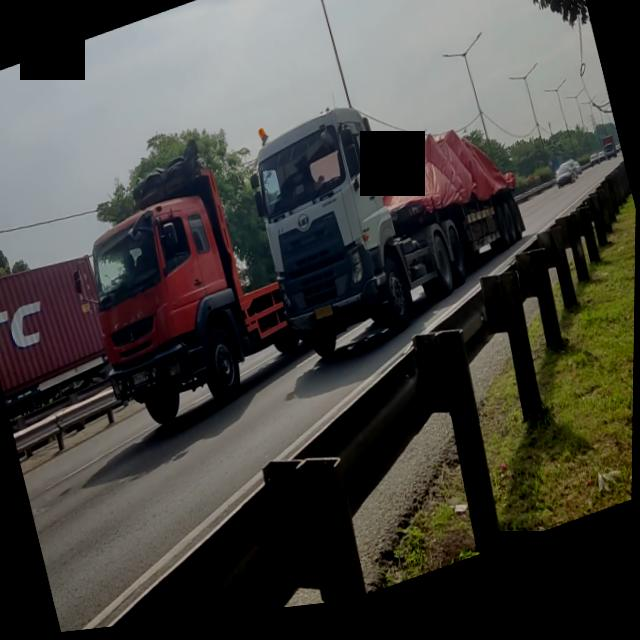Golongan V: (233, 52, 544, 389)
